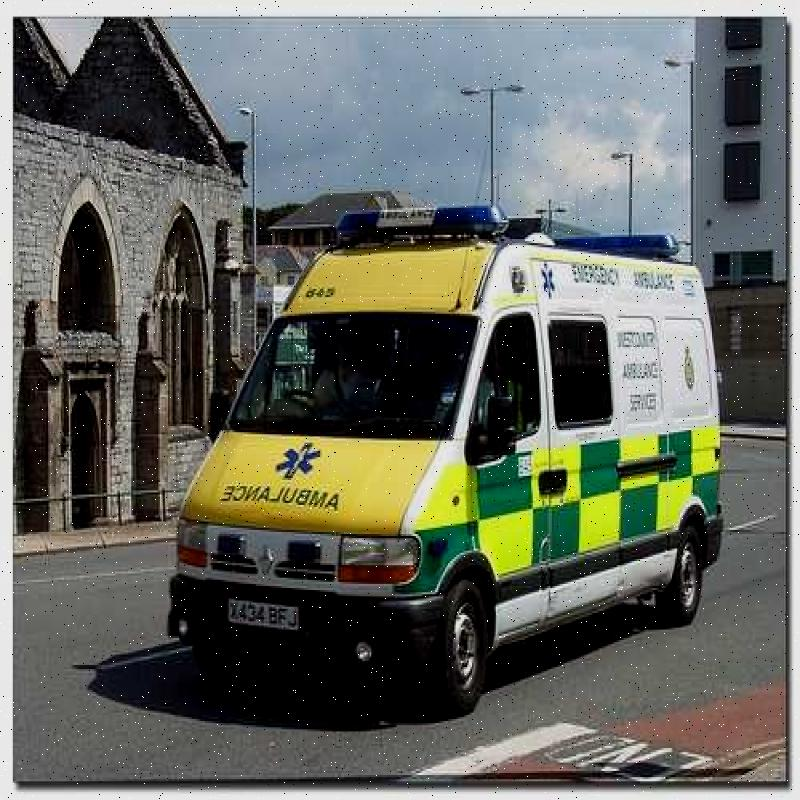AmbulanceSiren: (334, 196, 510, 252)
